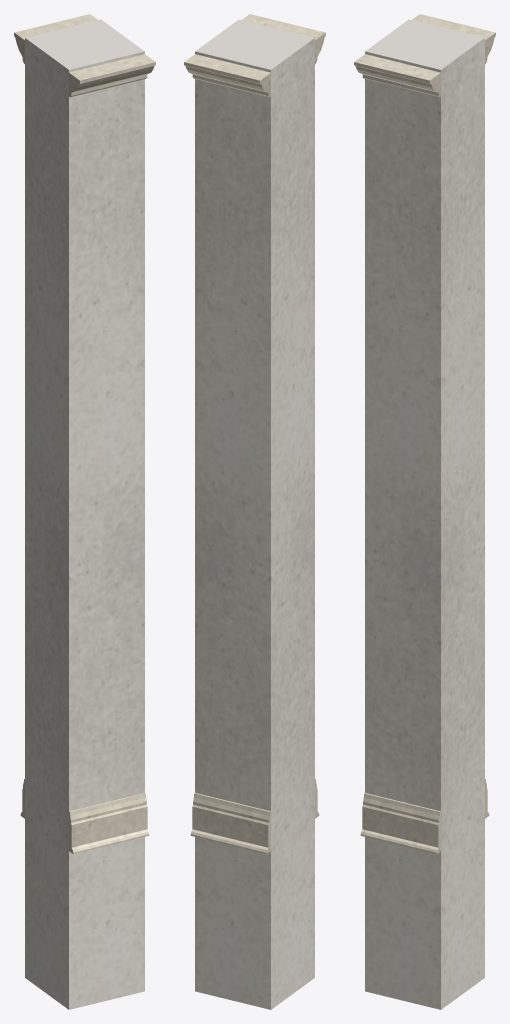
File: pv_filler_g.glb
The picture shows the model from 3 angles, left to right: view 1: azimuth 30°, elevation 25°; view 2: azimuth 150°, elevation 25°; view 3: azimuth 330°, elevation 25°; orthographic projection.
Parts seen in each view (by area): view 1: pv_filler_g_plaster, molduras; view 2: pv_filler_g_plaster, molduras; view 3: pv_filler_g_plaster, molduras.
Part boxes in pixels (x1,y1,x2,y2): pv_filler_g_plaster: (25,19,144,1009); molduras: (14,14,155,854); pv_filler_g_plaster: (195,19,314,1009); molduras: (184,14,325,854); pv_filler_g_plaster: (365,19,484,1009); molduras: (354,14,495,854).
Size of the model in its own units: 0.3002 by 3.55 by 0.45.
2 materials, 2 textured.
